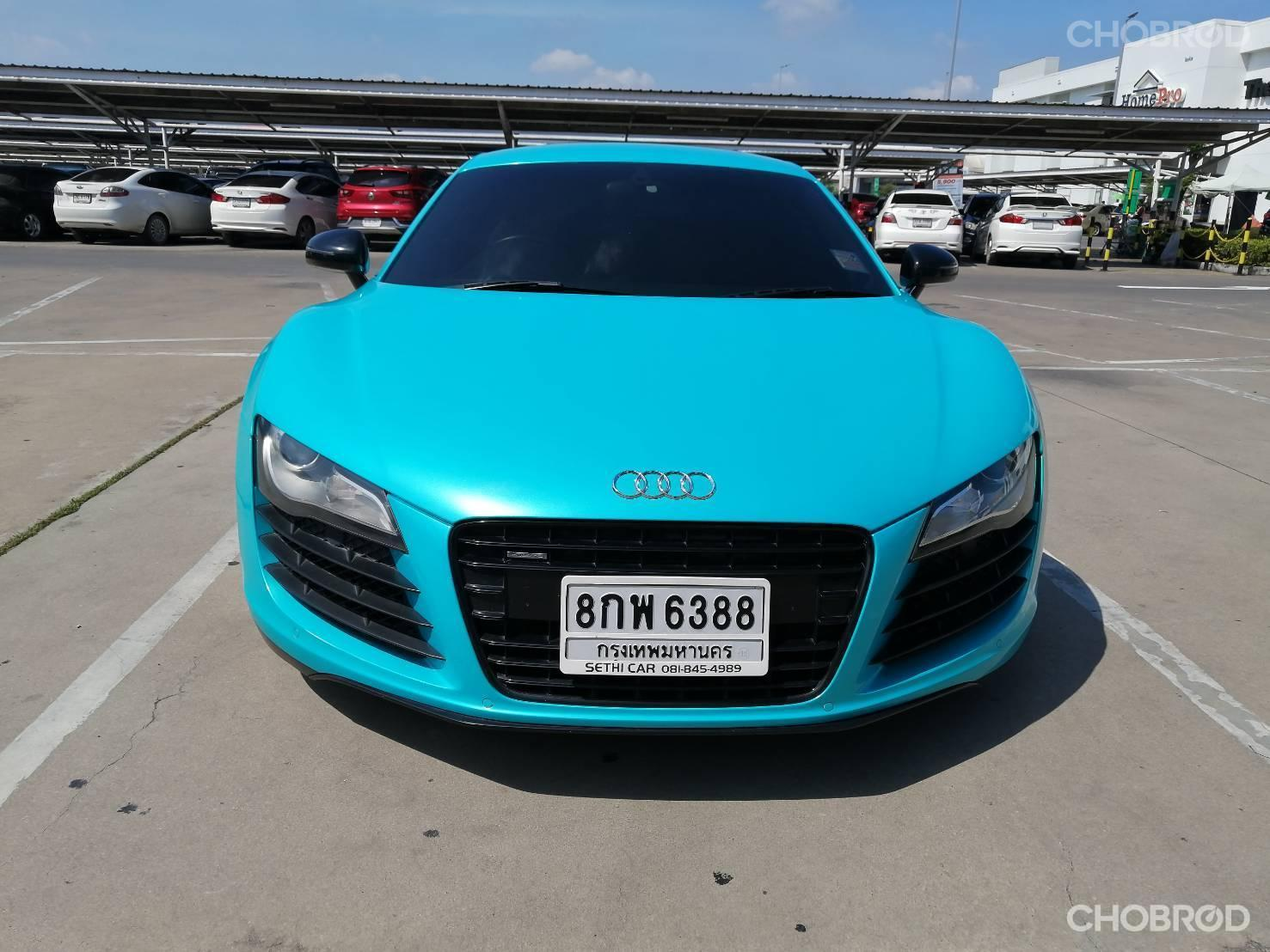license-plate: (557, 569, 776, 681), (1029, 216, 1055, 233), (362, 212, 384, 230), (231, 196, 251, 210), (912, 215, 933, 228), (72, 193, 92, 204)
